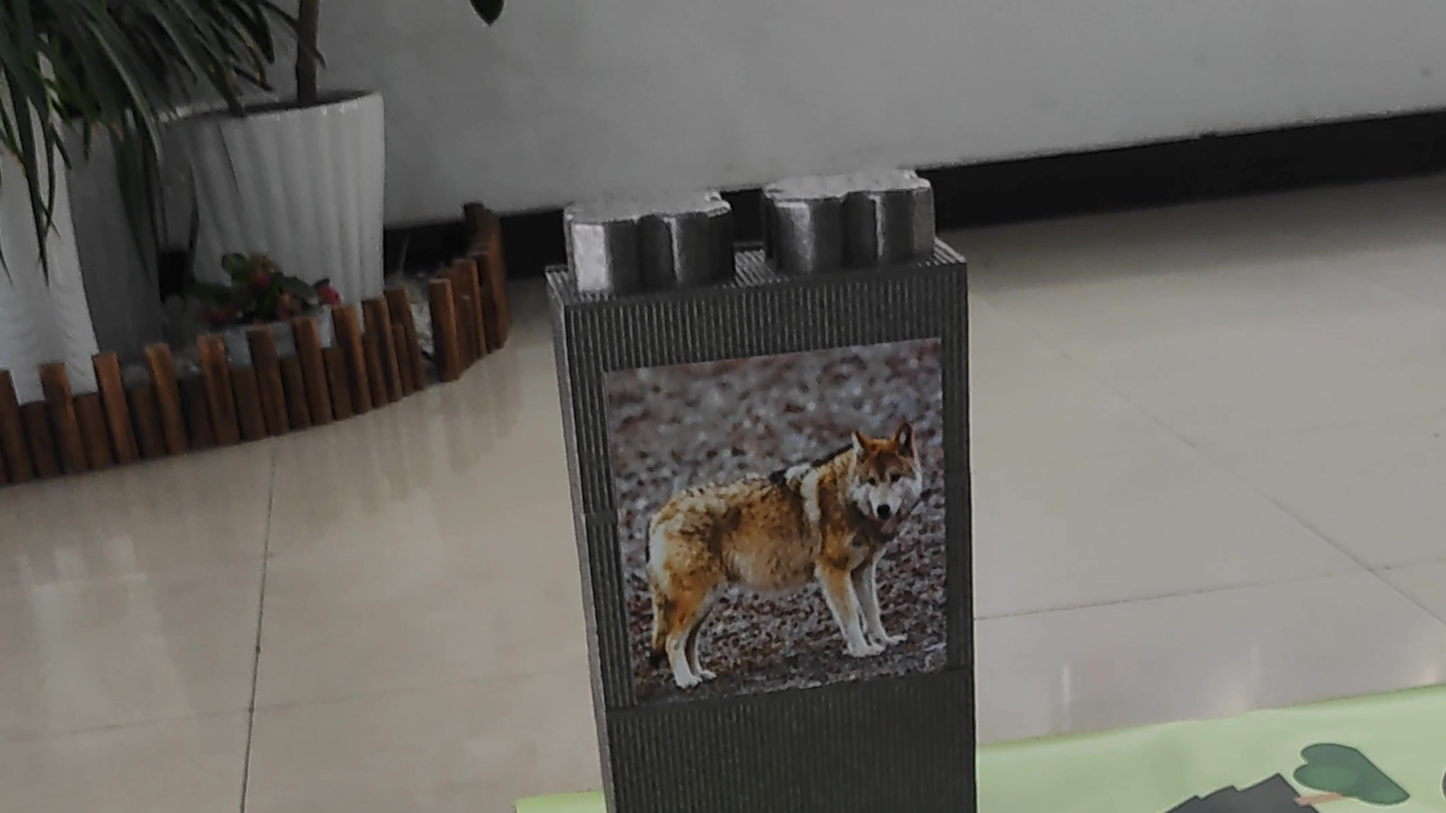wolf: (624, 400, 922, 694)
